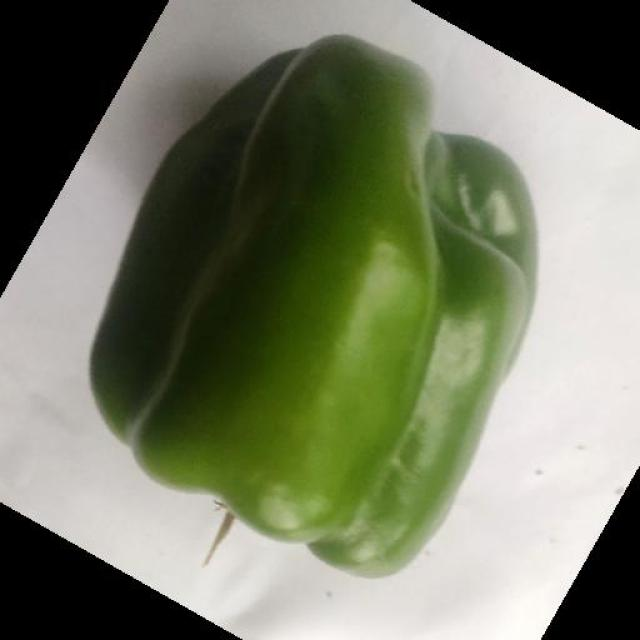Fresh_Capsicum: (94, 44, 538, 603)
